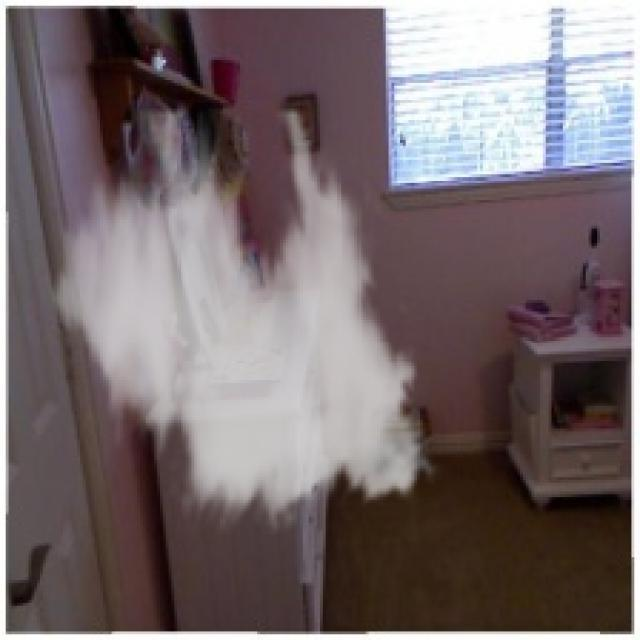Smoke: (40, 108, 446, 534)
